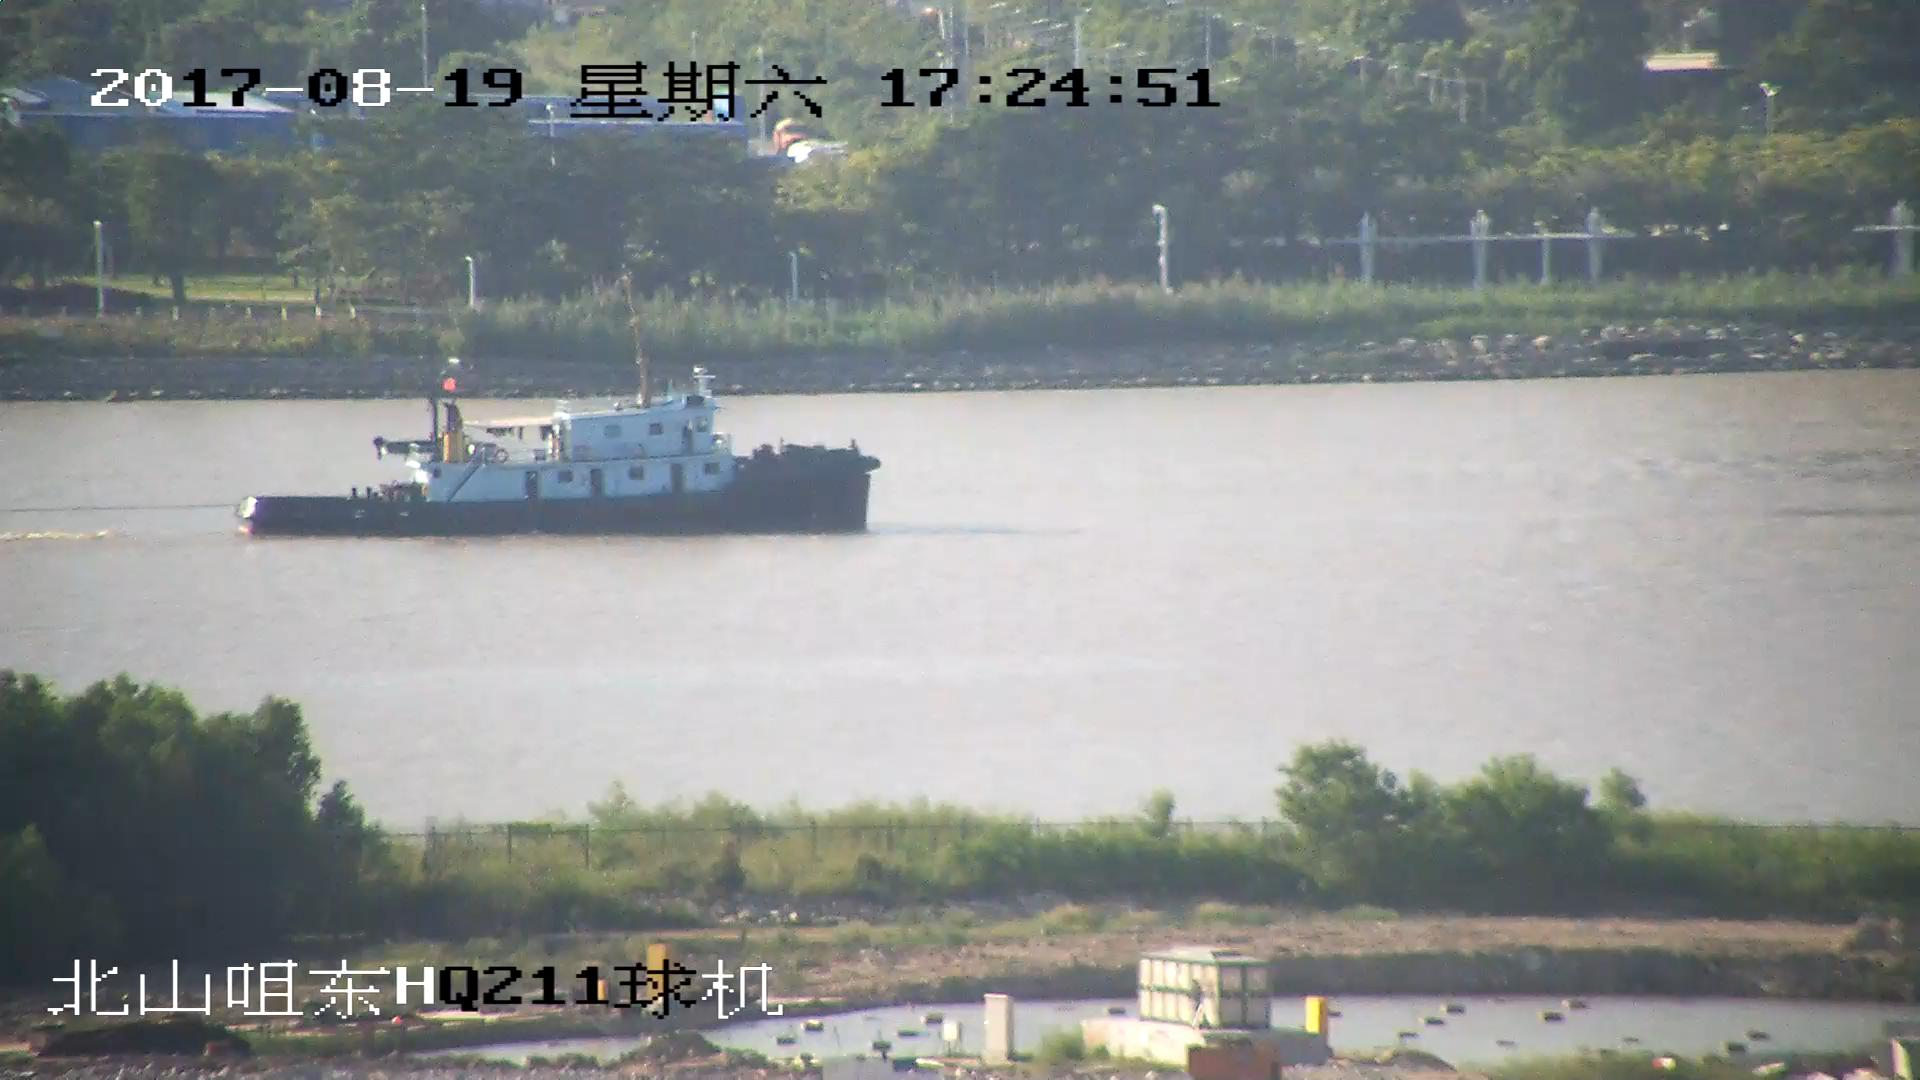fishing boat: (244, 379, 881, 536)
